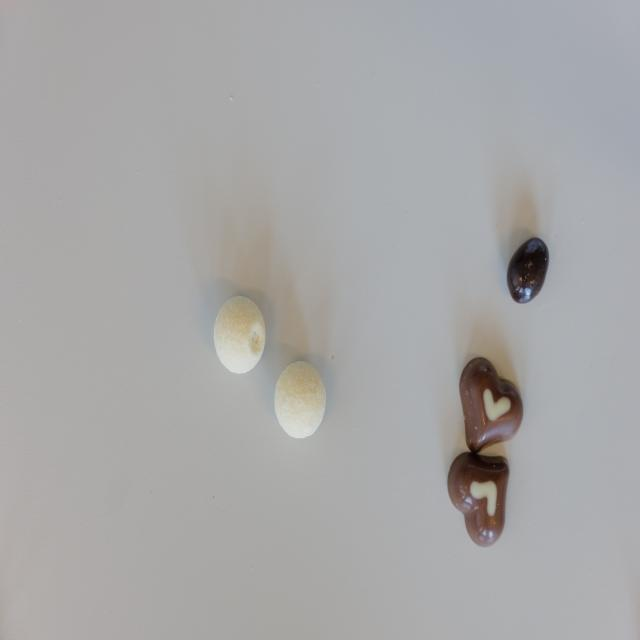Comtesse: (275, 360, 328, 439), (214, 294, 265, 376)
Jelly_Black: (506, 237, 549, 304)
Passion_au_lait: (459, 357, 523, 454), (448, 452, 510, 546)
